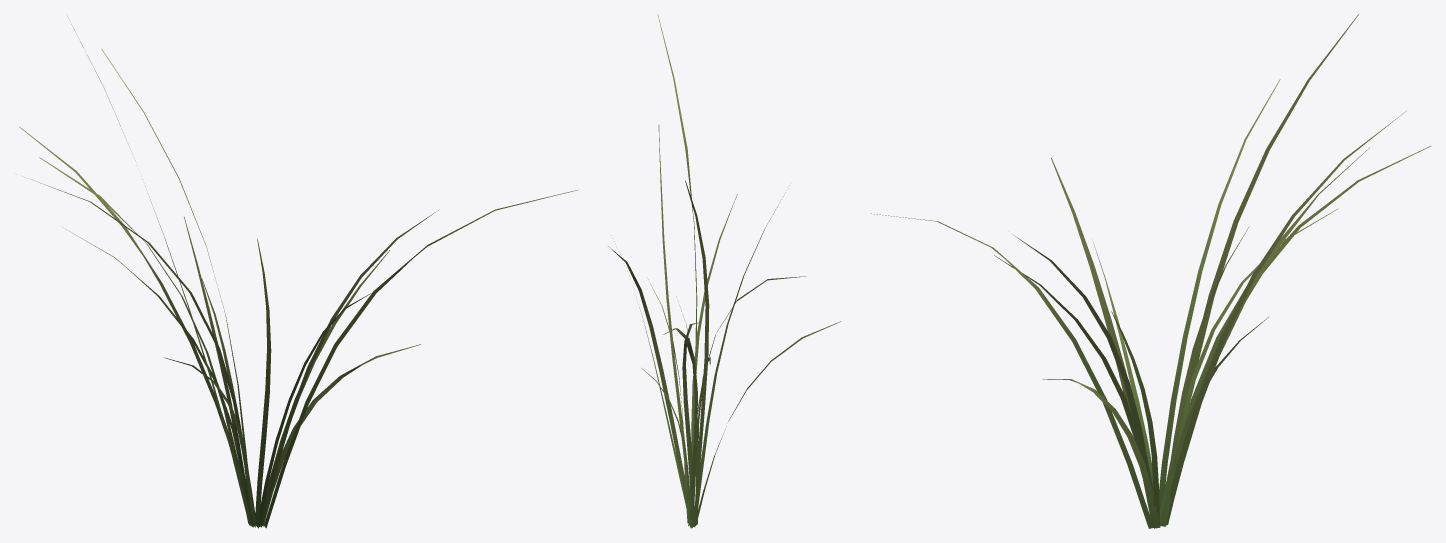
File: eelgrass_1.glb
The picture shows the model from 3 angles, left to right: view 1: azimuth 30°, elevation 25°; view 2: azimuth 150°, elevation 25°; view 3: azimuth 270°, elevation 25°; orthographic projection. The views are drawn at different scales.
Visible parts, largest first — view 1: eelgrass_1; view 2: eelgrass_1; view 3: eelgrass_1.
Part boxes in pixels (x1,y1,x2,y2): eelgrass_1: (19,16,578,528); eelgrass_1: (608,14,840,528); eelgrass_1: (871,14,1430,528).
Bounding box in the file's own units: 1.01 × 1.24 × 1.34.
